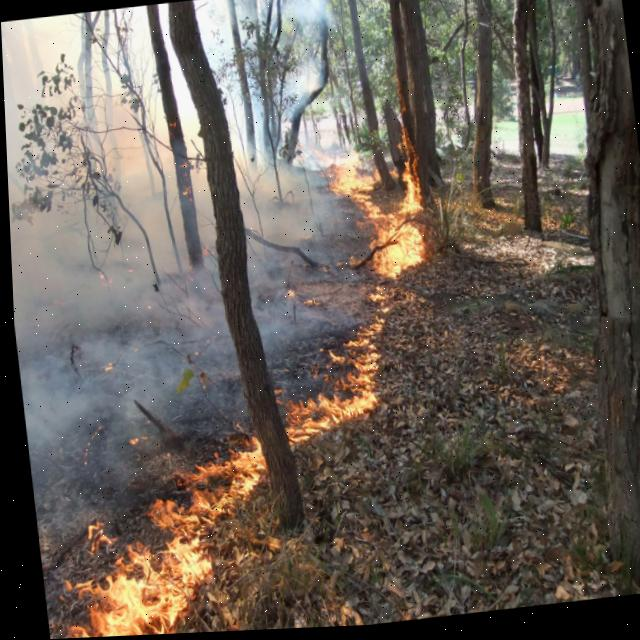fire: (60, 446, 317, 638), (282, 281, 434, 448), (328, 66, 439, 279), (82, 523, 106, 553)
smoke: (1, 4, 248, 639), (192, 0, 377, 287), (243, 240, 358, 403)
